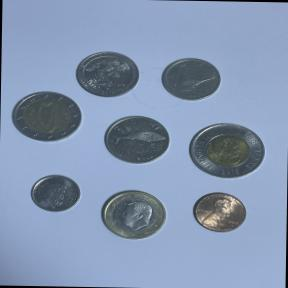coin: (182, 118, 270, 181), (92, 183, 174, 243), (10, 90, 84, 146), (101, 111, 174, 167), (74, 48, 142, 101), (186, 187, 252, 237), (25, 169, 84, 216)
